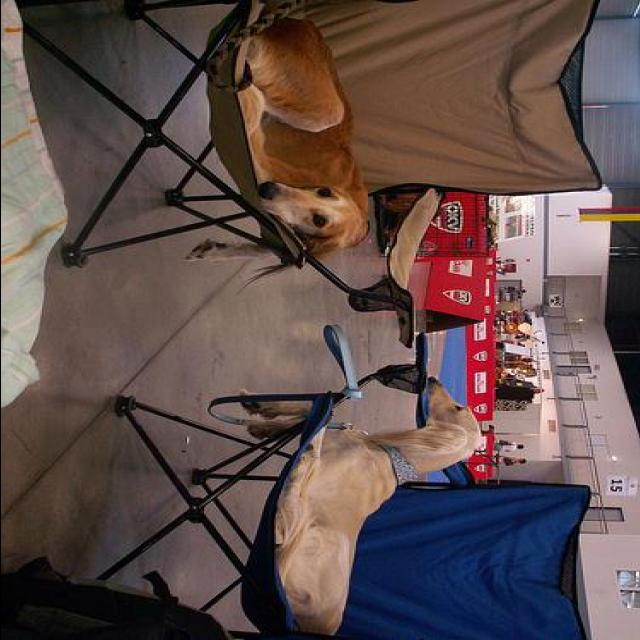saluki: (268, 374, 482, 638), (181, 18, 372, 292)
